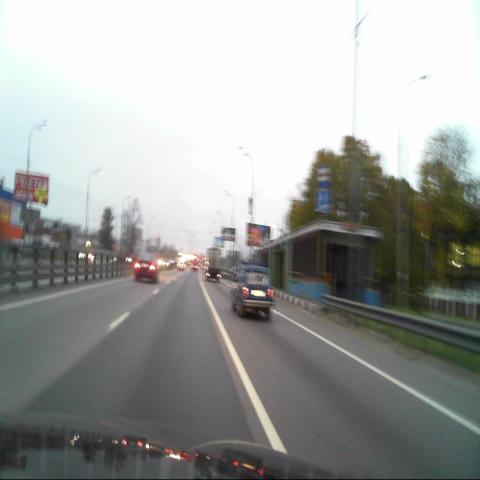5_16: (317, 166, 326, 188)
6_6: (314, 189, 326, 213)
